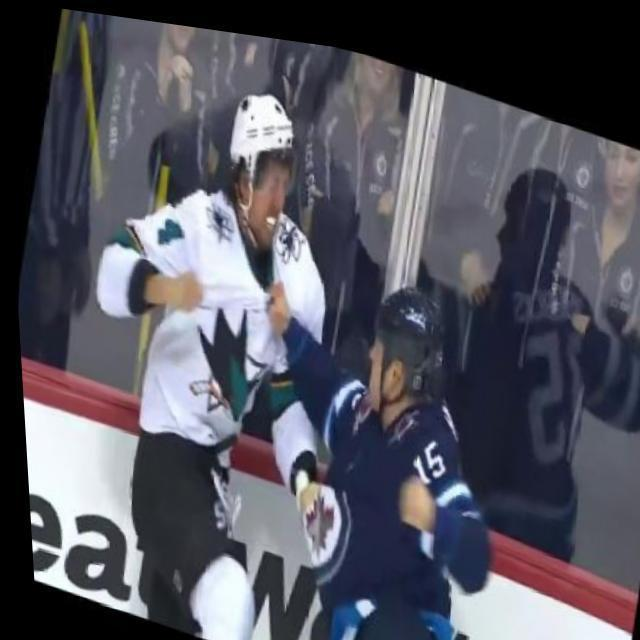fight: (9, 19, 447, 640), (107, 185, 553, 640)
